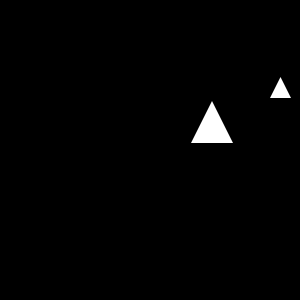triangle: (191, 101, 233, 143), (270, 77, 291, 98)
